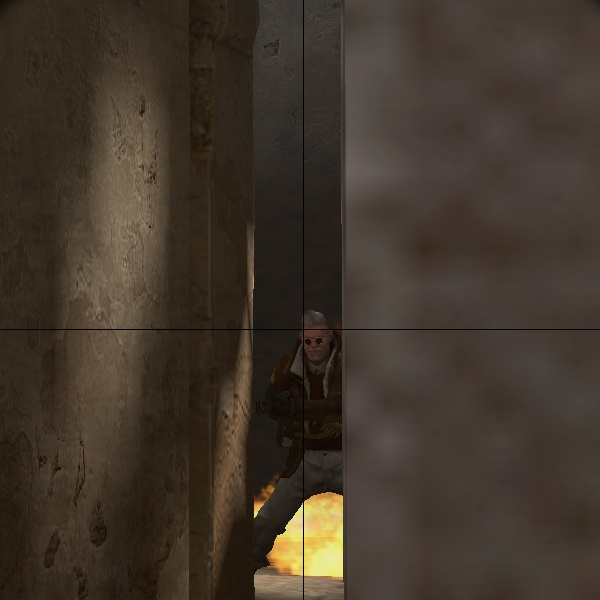t_body: (240, 293, 358, 600)
t_head: (284, 304, 344, 367)
